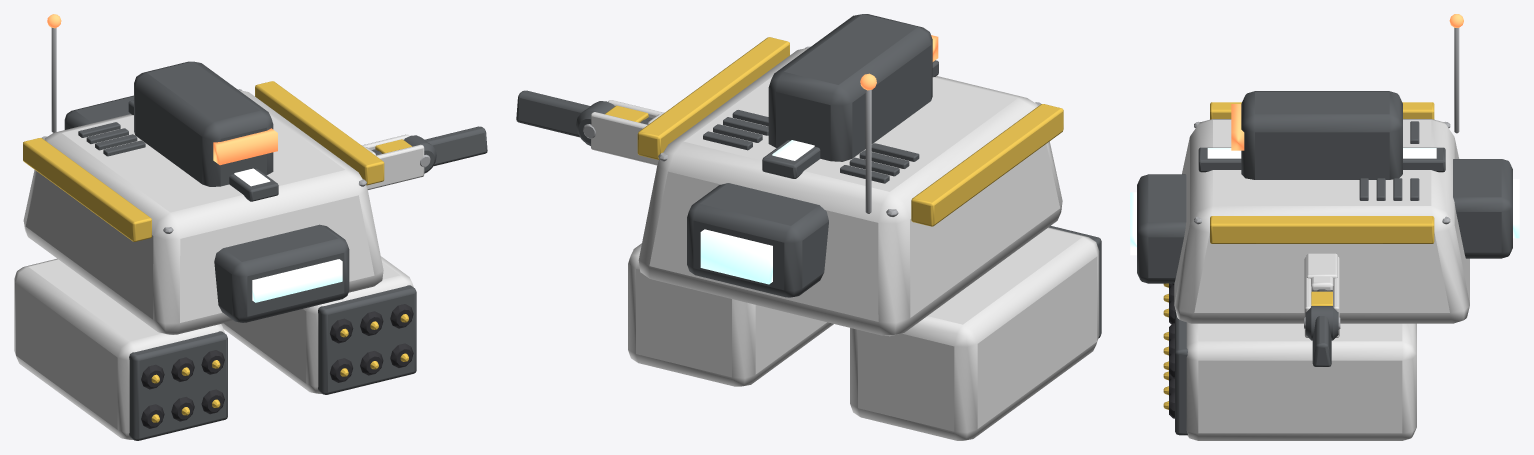
The model's file is missile.glb.
3 views of the same model, side by side, from view 1: azimuth 30°, elevation 25°; view 2: azimuth 150°, elevation 25°; view 3: azimuth 270°, elevation 25° (orthographic). The views are drawn at different scales.
Visible parts, largest first — view 1: Hull, Barrel, Turret, LegUpper, LegLower; view 2: Hull, Barrel, Turret, LegUpper, LegLower; view 3: Hull, Barrel, Turret, LegUpper, LegLower.
Boxes of the visible parts, bbox=[...] form: Hull: bbox=[23, 14, 384, 334]; Barrel: bbox=[14, 256, 416, 440]; Turret: bbox=[134, 61, 277, 186]; LegUpper: bbox=[362, 134, 436, 189]; LegLower: bbox=[363, 126, 487, 166]; Hull: bbox=[637, 37, 1063, 336]; Barrel: bbox=[628, 226, 1101, 440]; Turret: bbox=[768, 14, 938, 161]; LegUpper: bbox=[576, 100, 664, 165]; LegLower: bbox=[516, 90, 661, 137]; Hull: bbox=[1130, 14, 1519, 323]; Barrel: bbox=[1163, 283, 1416, 440]; Turret: bbox=[1231, 91, 1402, 179]; LegUpper: bbox=[1304, 253, 1340, 340]; LegLower: bbox=[1311, 276, 1333, 366].
Size of the model in its own units: 0.8855 by 0.6285 by 0.694.
